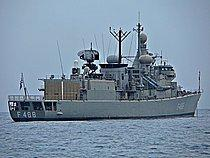MIL_Ship: (6, 21, 203, 122)
